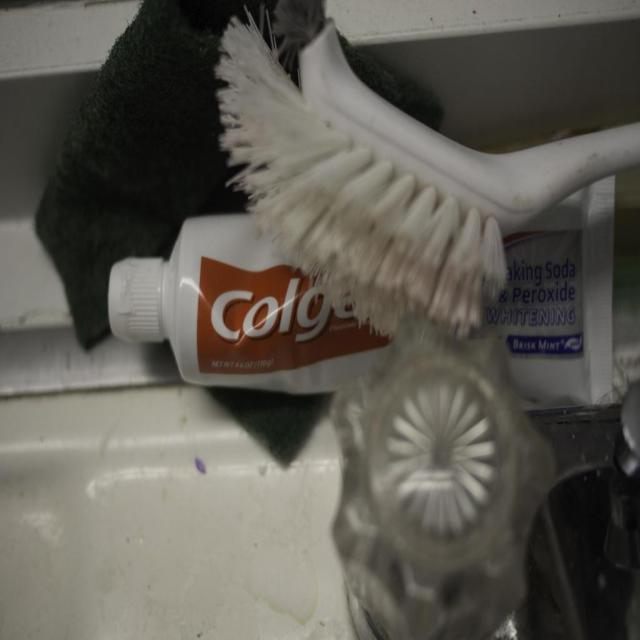Toothpaste: (107, 175, 616, 412)
